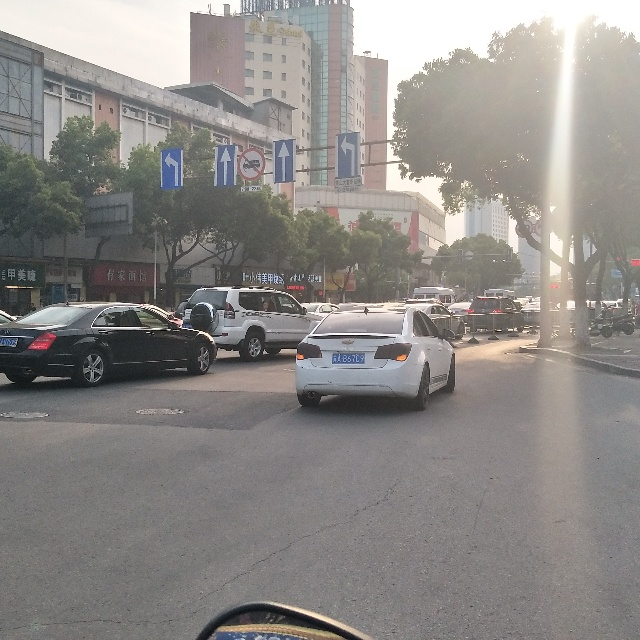left: (159, 149, 184, 186), (336, 135, 357, 175)
straight: (212, 144, 237, 189), (274, 141, 293, 183)
